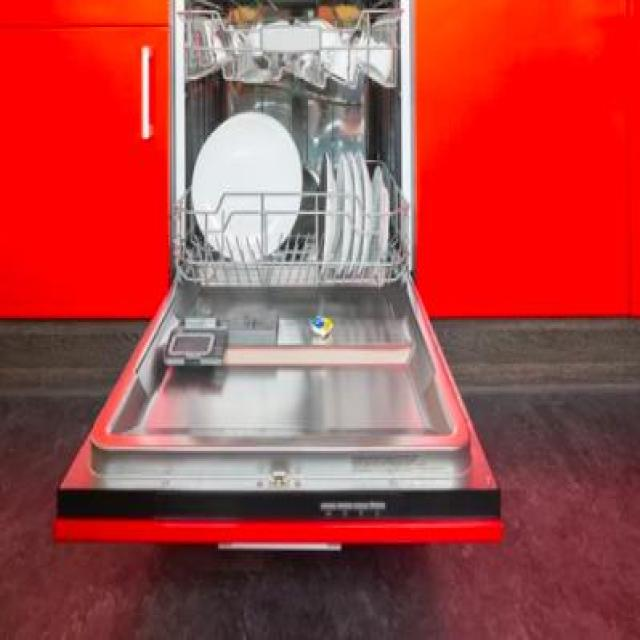dishwasher: (48, 2, 494, 544)
